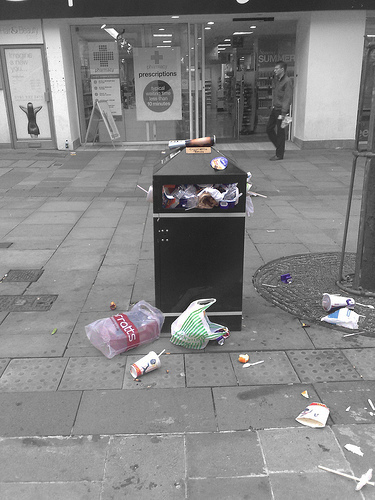litter: (82, 299, 165, 353), (170, 298, 228, 348), (158, 182, 242, 206), (316, 463, 375, 493), (244, 171, 268, 219), (320, 307, 364, 333), (297, 400, 328, 428), (129, 353, 161, 378), (167, 134, 214, 148), (318, 295, 353, 310), (135, 180, 155, 203), (234, 354, 265, 368), (210, 158, 228, 171), (278, 274, 292, 286)
